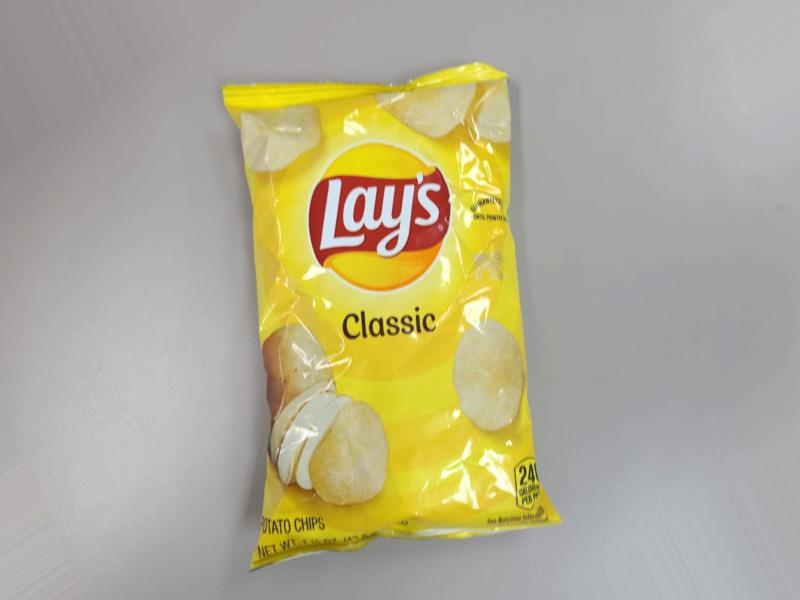lays: (191, 92, 607, 600)
